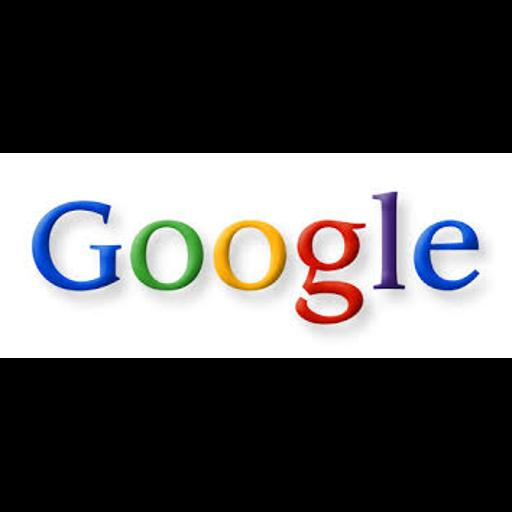Google: (0, 153, 512, 358)
